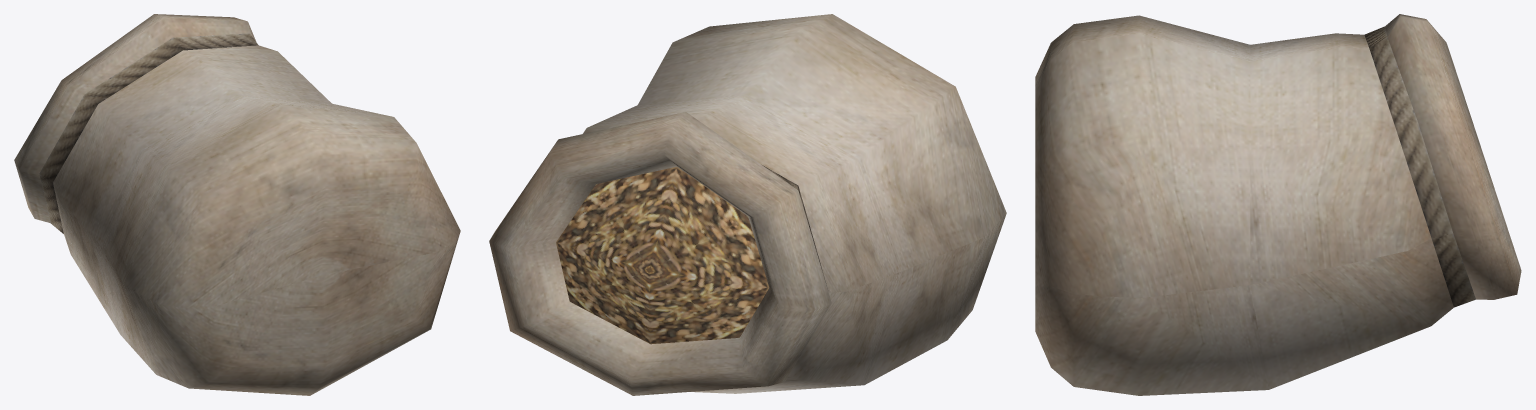
The model's file is Bag_Open_A.fbx.
3 views of the same model, side by side, from view 1: azimuth 30°, elevation 25°; view 2: azimuth 150°, elevation 25°; view 3: azimuth 270°, elevation 25° (orthographic). The views are drawn at different scales.
Visible parts, largest first — view 1: Bag_Open_A; view 2: Bag_Open_A; view 3: Bag_Open_A.
Part boxes in pixels (x1=…): Bag_Open_A: x1=14, y1=14, x2=460, y2=395; Bag_Open_A: x1=489, y1=14, x2=1006, y2=395; Bag_Open_A: x1=1035, y1=14, x2=1521, y2=395.
Bounding box in the file's own units: 1.02 × 0.8936 × 1.14.
